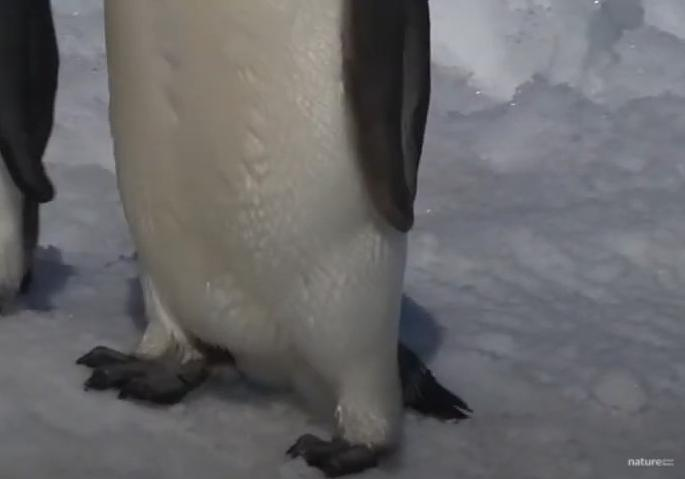Emperor Penguin: (5, 0, 462, 476)
